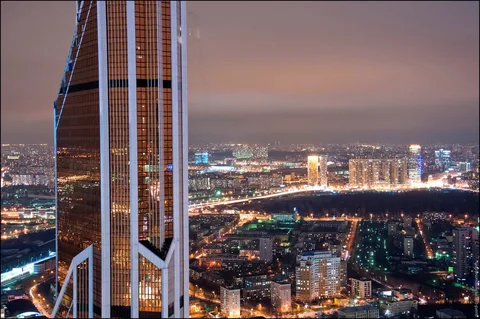high_rise_building: (46, 3, 201, 301)
